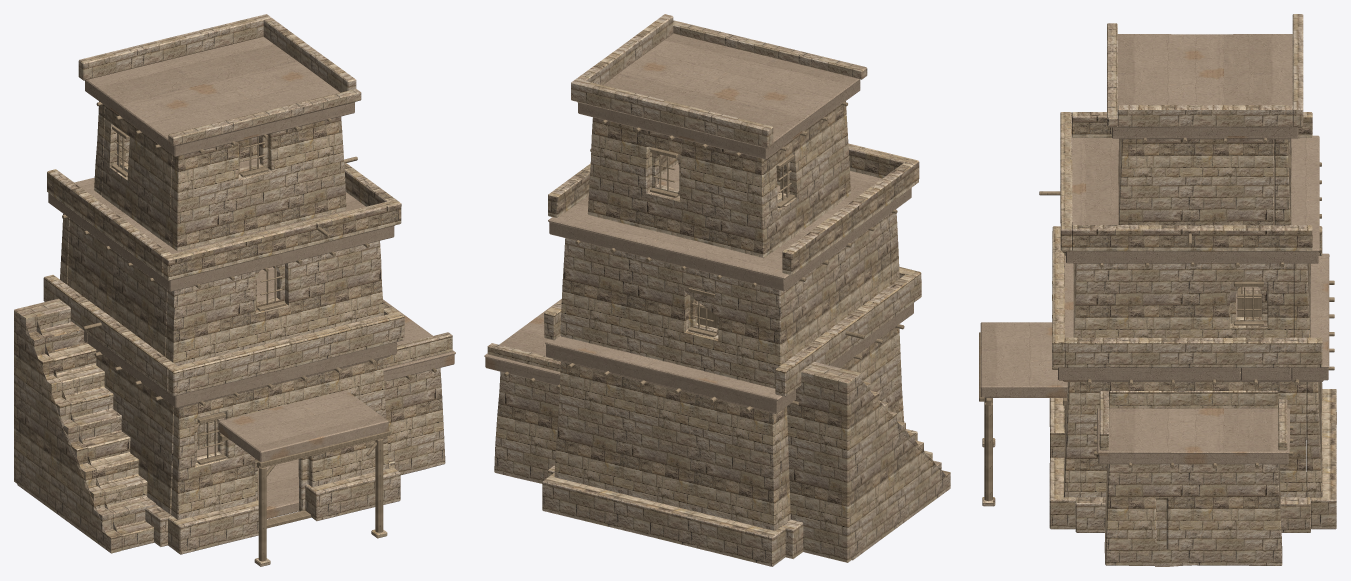
3 renders of one model, left to right at view 1: azimuth 30°, elevation 25°; view 2: azimuth 150°, elevation 25°; view 3: azimuth 270°, elevation 25°, orthographic. The views are drawn at different scales.
Visible parts, largest first — view 1: house; view 2: house; view 3: house.
Part boxes in pixels (x1,y1,x2,y2): house: [14, 14, 455, 566]; house: [484, 14, 950, 566]; house: [979, 14, 1336, 566].
Size of the model in its own units: 10.99 by 11.98 by 9.34.
Materials: 3 (3 with a texture image).
